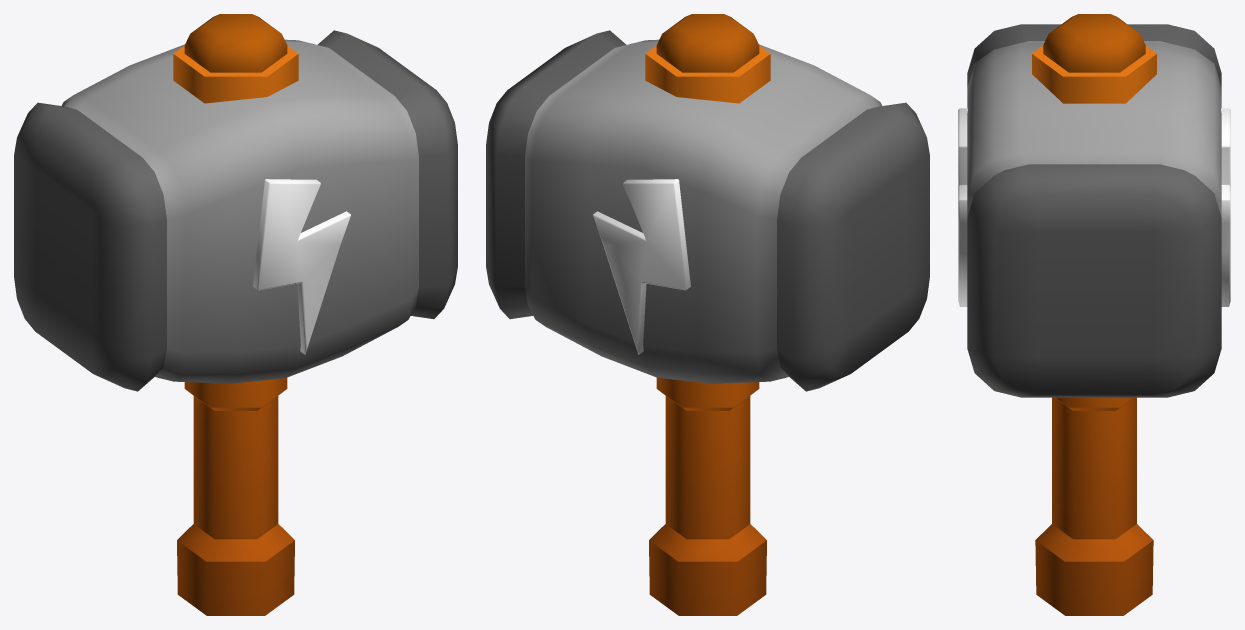
Rendered from scene_9coENjX7ee.glb.
3 views of the same model, side by side, from view 1: azimuth 30°, elevation 25°; view 2: azimuth 150°, elevation 25°; view 3: azimuth 270°, elevation 25° (orthographic).
Parts seen in each view (by area): view 1: Collectable_Hammer_01; view 2: Collectable_Hammer_01; view 3: Collectable_Hammer_01.
Part boxes in pixels (x1=…): Collectable_Hammer_01: x1=14, y1=14, x2=457, y2=615; Collectable_Hammer_01: x1=486, y1=14, x2=929, y2=615; Collectable_Hammer_01: x1=958, y1=14, x2=1230, y2=615.
Size of the model in its own units: 0.5476 by 0.8726 by 0.3762.
Materials: 1 (1 with a texture image).
